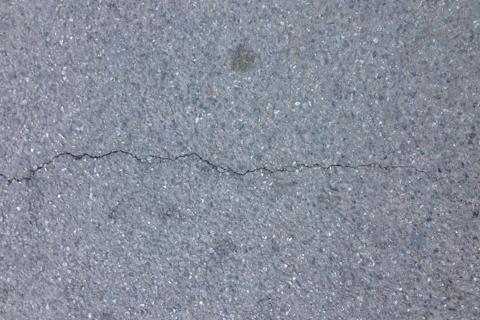crack: (1, 148, 440, 187)
